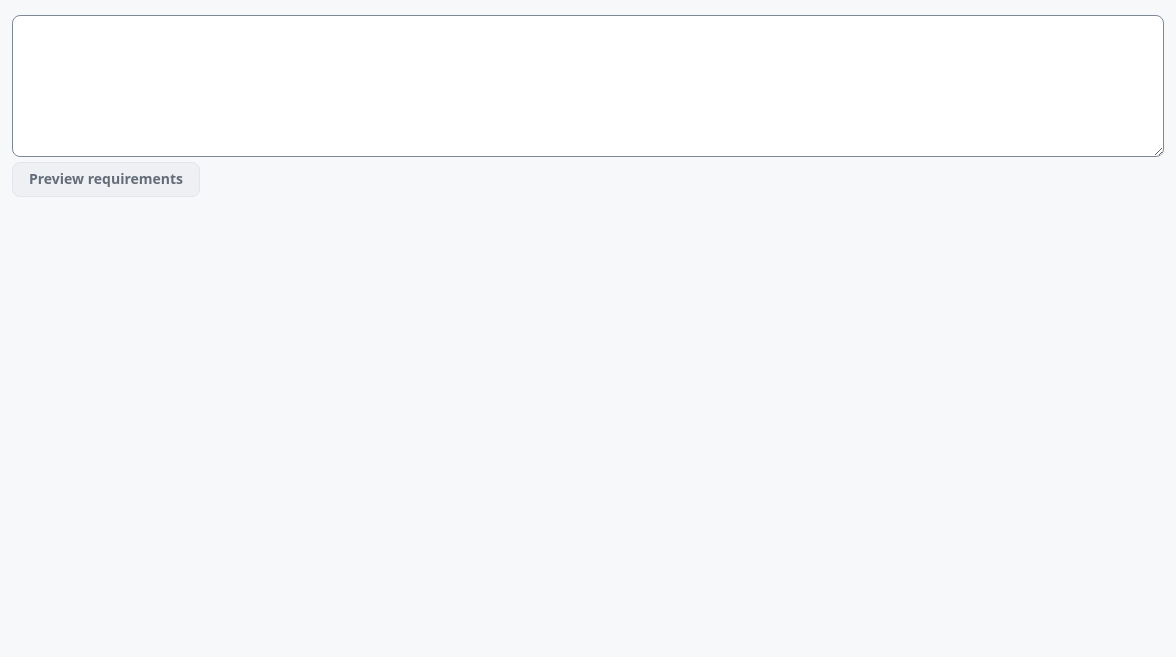
Scenario: explicit requirements acceptance › saves only on the reviewer's action and clears the temporary prompt after exact acceptance
This screenshot has width=1176, height=657.
Step 1. Type "A small synthetic notes API." into the text box labelled "What do you want to build?" → (588, 86), box [12,15,1164,157]
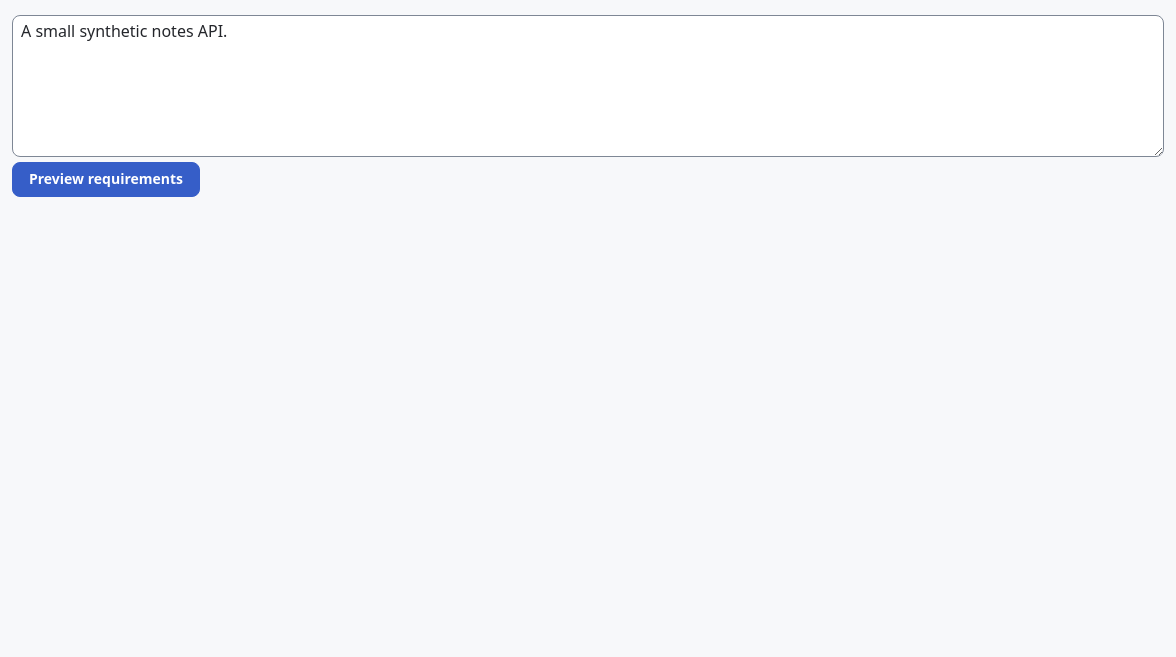
Step 2. Click the button "Preview requirements" → (106, 179), box [12,162,200,197]
(page scrolled)
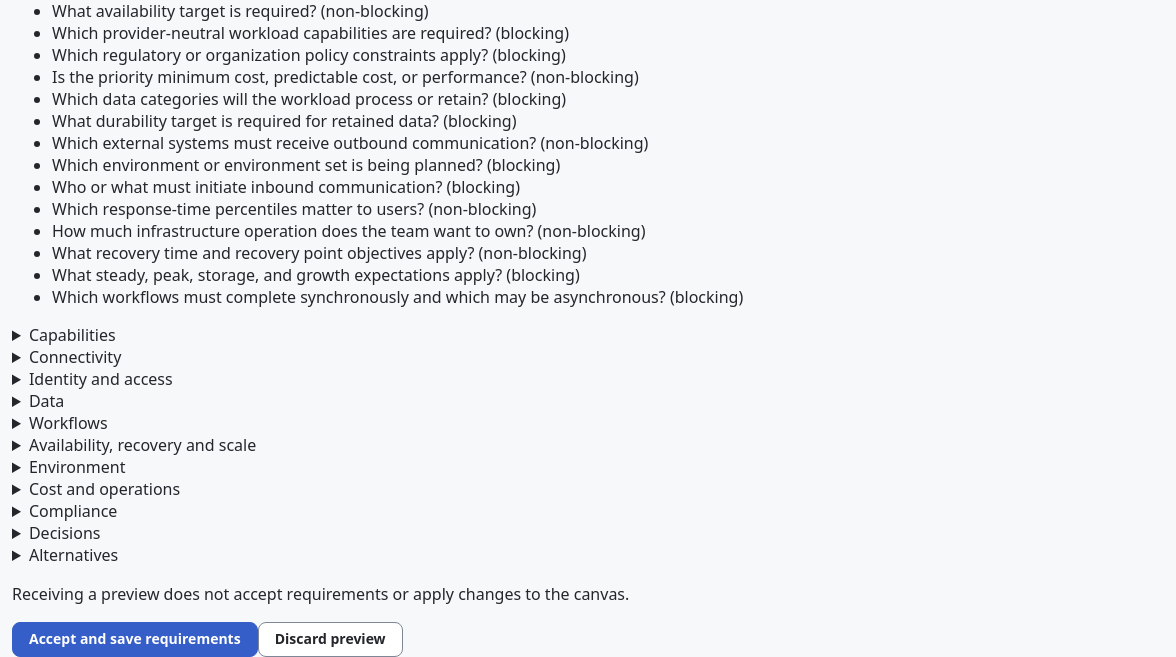
Check: the button "Accept and save requirements" is enabled
Step 3. Click the button "Accept and save requirements" → (135, 640), box [12,622,258,656]
(page scrolled)
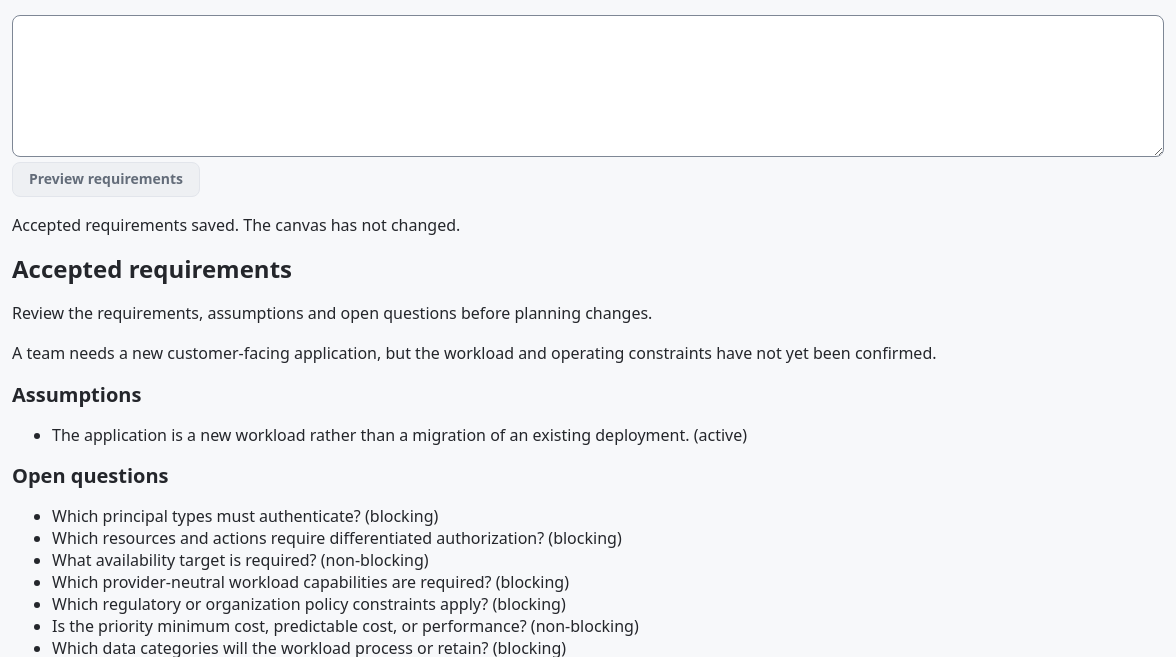
Check: the heading "Accepted requirements" is shown, box [12,252,292,285]
Check: the text box labelled "What do you want to build?" is empty, box [12,15,1164,157]
